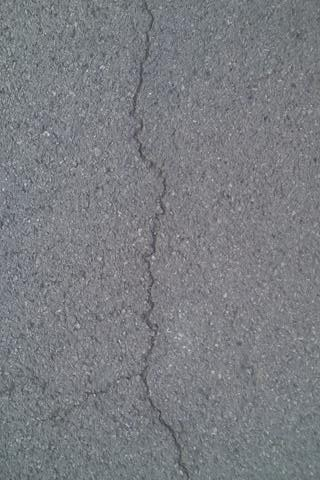A: (128, 3, 196, 479), (66, 372, 126, 411)
